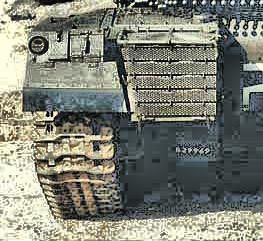tanks: (25, 1, 263, 218)
